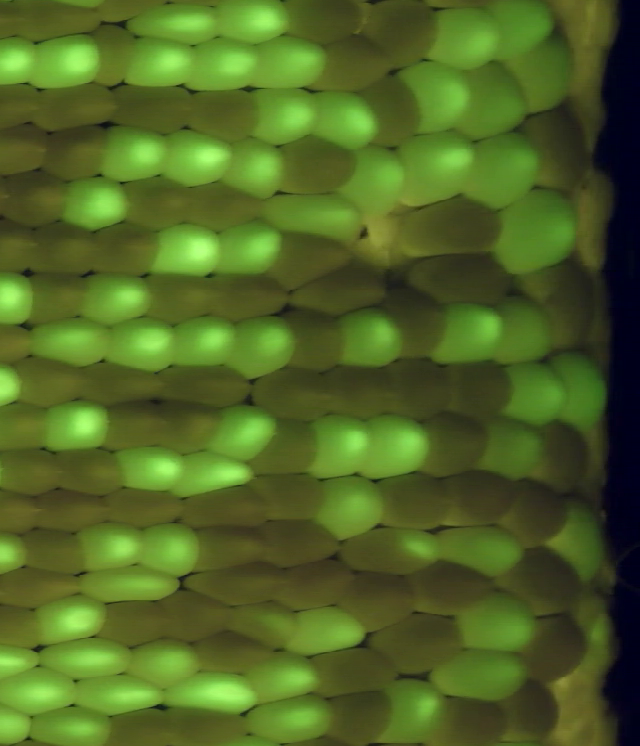fluorescent: (498, 191, 581, 279), (467, 135, 541, 211), (397, 130, 472, 204), (395, 59, 468, 133), (460, 63, 527, 141), (264, 189, 356, 241), (225, 315, 297, 379), (431, 302, 503, 366), (150, 221, 225, 281), (364, 416, 433, 481), (437, 649, 530, 697), (431, 5, 504, 66), (429, 523, 517, 573), (558, 351, 611, 432), (57, 177, 132, 234), (105, 316, 180, 373), (98, 124, 168, 184), (191, 36, 262, 95), (165, 130, 236, 189), (343, 304, 407, 369), (500, 362, 567, 424), (455, 591, 533, 644), (126, 34, 196, 93), (32, 32, 104, 89), (32, 591, 109, 644), (21, 704, 116, 746), (206, 404, 277, 460), (314, 88, 378, 150), (77, 520, 149, 575), (497, 297, 555, 365), (254, 35, 325, 90), (215, 220, 282, 278), (123, 1, 220, 41), (247, 696, 337, 739), (167, 316, 236, 372), (497, 1, 559, 63), (318, 473, 377, 538), (518, 40, 572, 111), (30, 317, 108, 366), (169, 673, 260, 715), (176, 455, 254, 502), (387, 678, 445, 741), (482, 420, 546, 477), (289, 604, 365, 651), (86, 567, 181, 604), (246, 654, 325, 698), (214, 1, 291, 45), (312, 412, 363, 477), (356, 149, 406, 215), (46, 399, 108, 452), (83, 273, 150, 322), (78, 673, 164, 711), (256, 88, 313, 145), (557, 511, 612, 569), (129, 639, 200, 683), (0, 668, 77, 708), (232, 138, 283, 198), (113, 446, 183, 489), (40, 640, 128, 674), (139, 525, 197, 575), (383, 528, 442, 568), (0, 270, 33, 325), (0, 37, 36, 87), (0, 638, 41, 677), (0, 700, 31, 746)
nonfluorescent: (515, 259, 603, 353), (491, 543, 591, 621), (362, 609, 470, 680), (515, 100, 594, 195), (395, 195, 508, 259), (400, 250, 515, 309), (279, 259, 388, 317), (350, 71, 425, 154), (260, 227, 354, 293), (403, 557, 502, 618), (509, 613, 591, 686), (275, 133, 365, 199), (183, 559, 300, 609), (333, 567, 418, 635), (375, 285, 451, 360), (494, 477, 573, 549), (305, 34, 397, 95), (413, 409, 492, 480), (29, 79, 123, 138), (306, 645, 403, 702), (115, 170, 197, 237), (362, 1, 442, 69), (105, 79, 199, 136), (522, 417, 595, 490), (150, 361, 255, 411), (434, 469, 524, 527), (436, 358, 515, 424), (152, 587, 241, 645), (175, 482, 278, 532), (139, 270, 226, 329), (33, 122, 114, 185), (376, 471, 456, 534), (321, 360, 401, 423), (256, 516, 345, 572), (247, 466, 330, 526), (497, 676, 568, 746), (247, 364, 337, 419), (381, 354, 456, 420), (187, 622, 275, 678), (12, 350, 95, 409), (270, 559, 360, 613), (185, 87, 268, 145), (245, 415, 319, 480), (198, 276, 294, 326), (185, 520, 279, 571), (84, 219, 163, 279), (278, 307, 349, 373), (179, 179, 265, 233), (74, 358, 172, 405), (422, 693, 508, 746), (24, 219, 98, 280), (7, 1, 103, 48), (320, 689, 398, 746), (153, 397, 224, 459), (90, 597, 175, 648), (280, 1, 373, 47), (0, 167, 66, 230), (0, 567, 90, 613), (31, 487, 116, 535), (15, 525, 89, 579), (23, 268, 88, 329), (102, 484, 189, 529), (54, 444, 127, 496), (96, 400, 175, 448), (0, 444, 68, 499), (165, 706, 254, 746), (101, 702, 181, 746), (87, 16, 135, 89), (0, 119, 55, 179), (0, 400, 52, 453), (0, 217, 44, 279), (0, 80, 44, 139), (0, 600, 49, 652), (0, 484, 45, 538), (0, 317, 36, 366)
